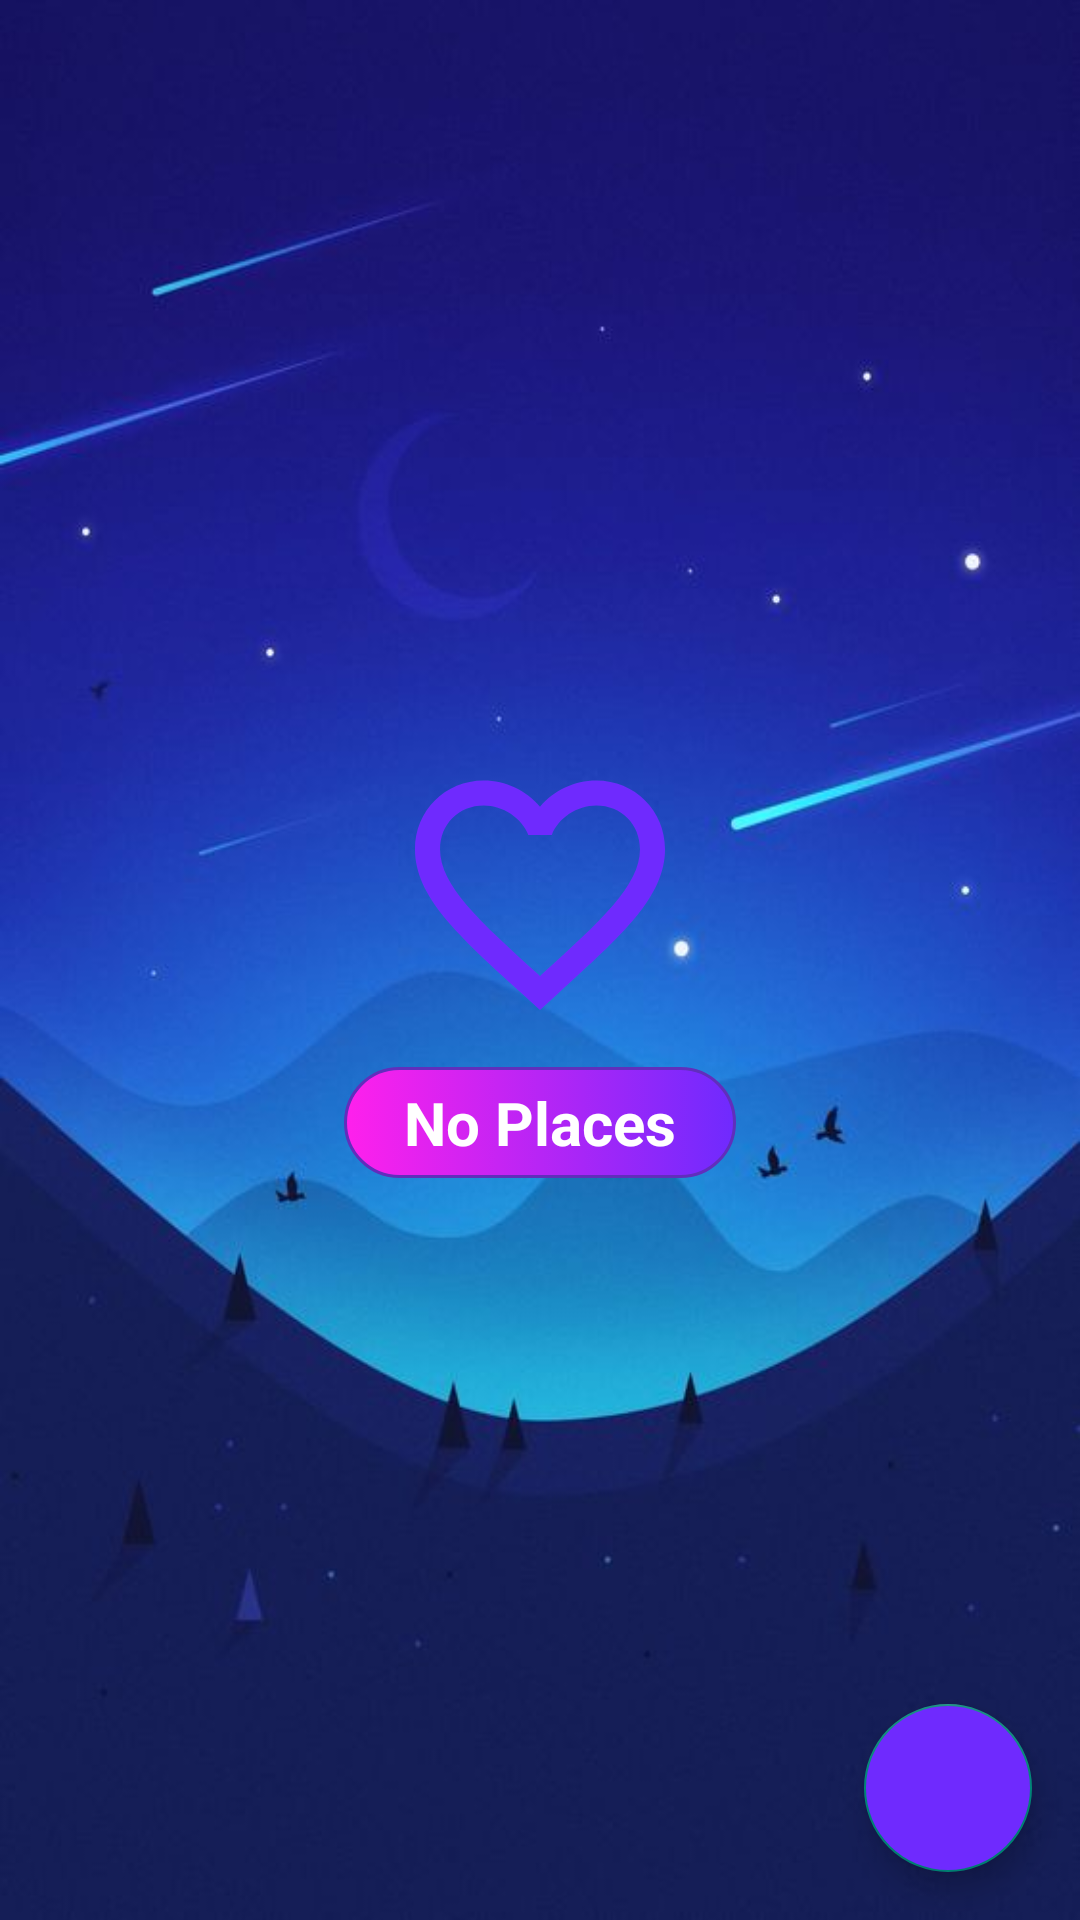

Screen size 1080 x 1920. Icon name, then its center in pixels as (x,y):
favorite border: (540,893)
